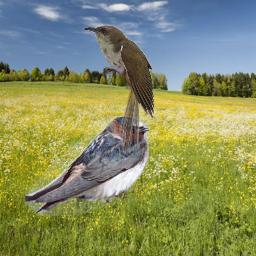Cuckoo: (83, 24, 154, 153)
Swallow: (25, 116, 149, 216)
